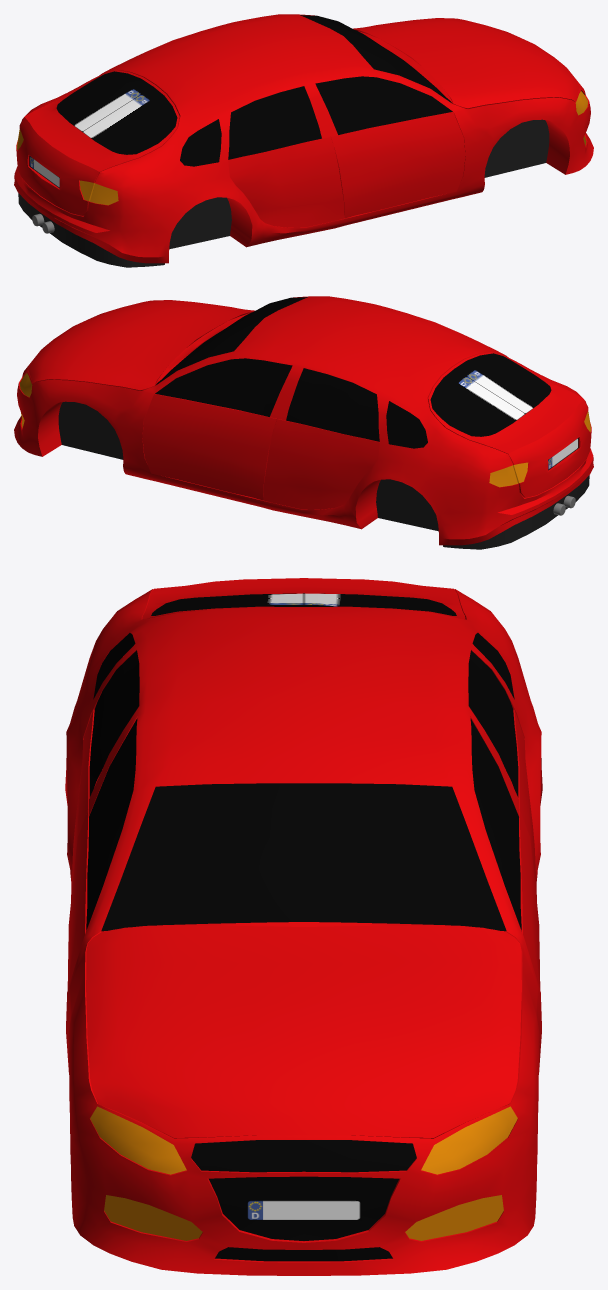
File: car.glb
3 views of the same model, one above another, from view 1: azimuth 30°, elevation 25°; view 2: azimuth 150°, elevation 25°; view 3: azimuth 270°, elevation 25° (orthographic). The views are drawn at different scales.
Visible parts, largest first — view 1: CarCase, DoorFront, DoorBack, Window, Lights, NumberPlate; view 2: CarCase, DoorFront, DoorBack, Window, Lights, NumberPlate; view 3: CarCase, Window, Lights, DoorFront, DoorBack, NumberPlate.
Boxes of the visible parts, x1=… form: CarCase: x1=14, y1=14, x2=593, y2=267; DoorFront: x1=315, y1=76, x2=465, y2=218; DoorBack: x1=228, y1=86, x2=344, y2=227; Window: x1=56, y1=15, x2=452, y2=166; Lights: x1=17, y1=91, x2=587, y2=205; NumberPlate: x1=29, y1=156, x2=59, y2=188; CarCase: x1=14, y1=296, x2=593, y2=549; DoorFront: x1=142, y1=358, x2=292, y2=500; DoorBack: x1=263, y1=368, x2=379, y2=509; Window: x1=155, y1=297, x2=551, y2=448; Lights: x1=20, y1=373, x2=590, y2=487; NumberPlate: x1=548, y1=438, x2=578, y2=470; CarCase: x1=65, y1=578, x2=542, y2=1275; Window: x1=93, y1=593, x2=514, y2=931; Lights: x1=90, y1=1106, x2=517, y2=1261; DoorFront: x1=67, y1=718, x2=540, y2=989; DoorBack: x1=71, y1=650, x2=536, y2=900; NumberPlate: x1=246, y1=1200, x2=361, y2=1220.
Bounding box in the file's own units: 4.41 × 1.19 × 1.73.
8 materials, 2 textured.
